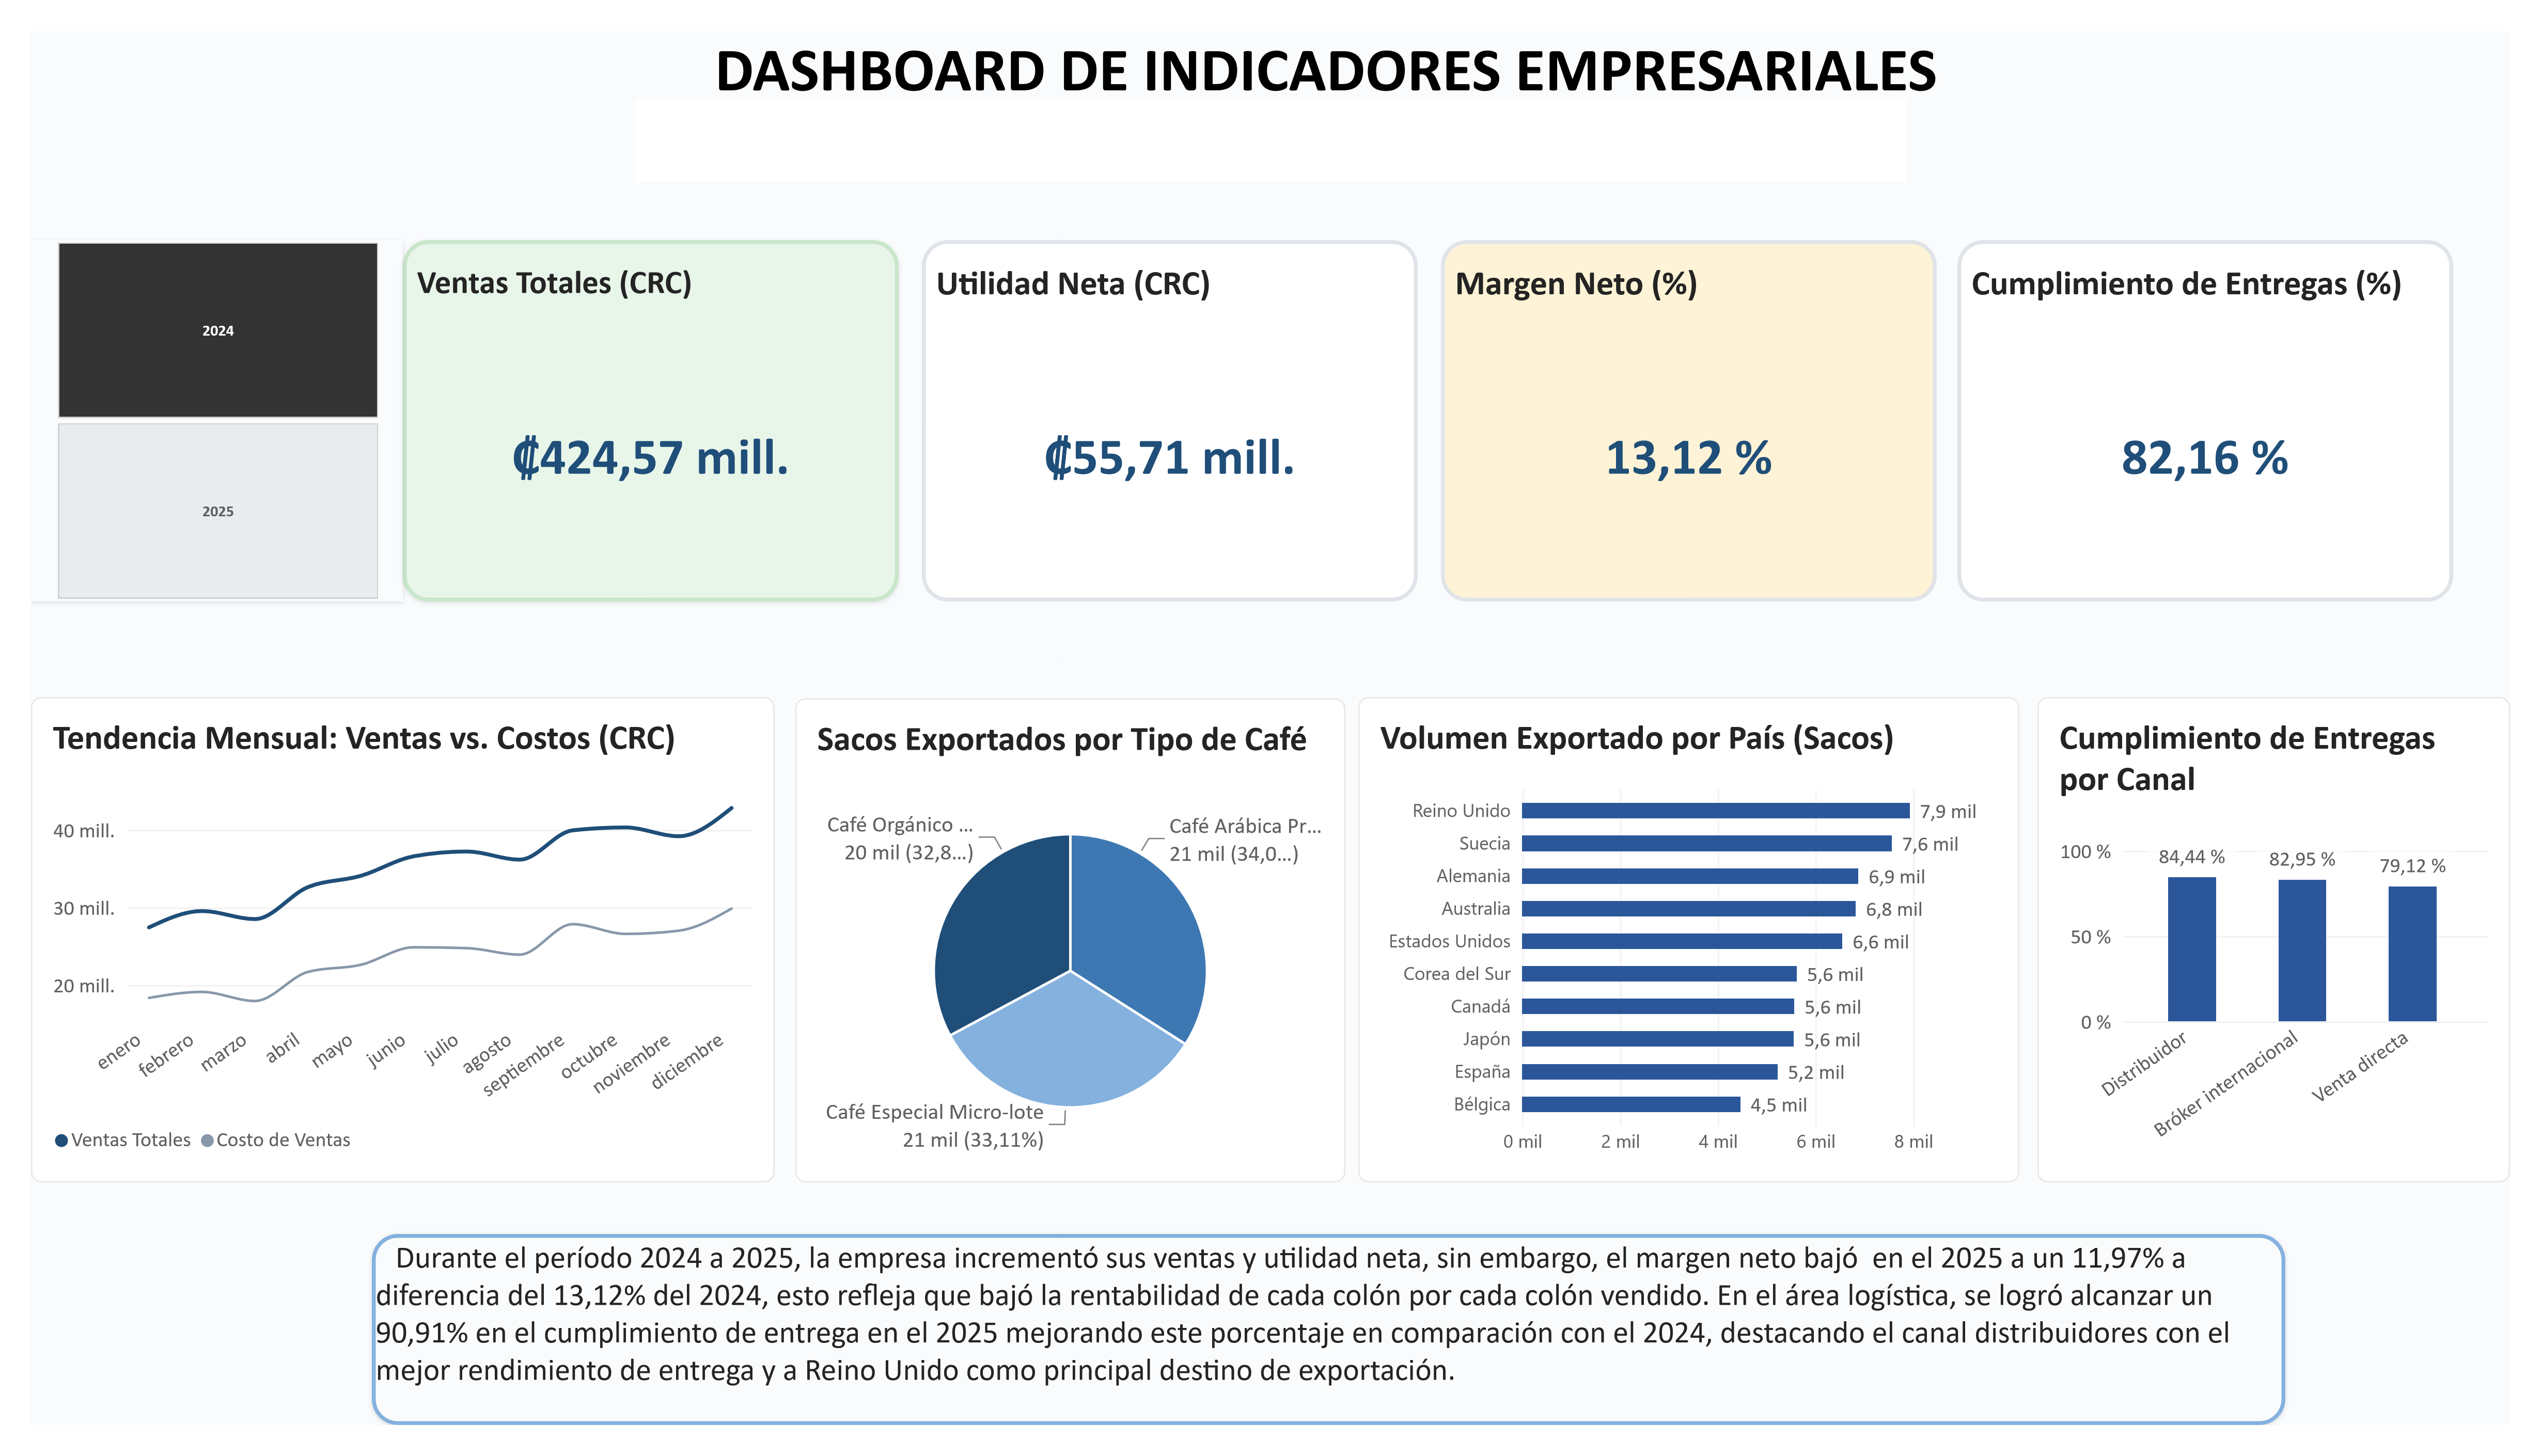

The dashboard page shown, as its layout file describes it:
{"tool":"powerbi","page":{"name":"Página 1","canvas":[1920,1080],"ordinal":0},"visuals":[{"type":"kpi","title":"Ventas Totales (CRC)","fields":{"Indicator":["Finanzas_Mensual.Ventas Totales (CRC)"],"TrendLine":["Calendario.Fecha.Variación.Jerarquía de fechas.Año"]},"box":[288,162,384,280],"z":0},{"type":"kpi","title":"Utilidad Neta (CRC)","fields":{"Indicator":["Finanzas_Mensual.Utilidad Neta (CRC)"],"TrendLine":["Calendario.Fecha.Variación.Jerarquía de fechas.Año"]},"box":[690,162,384,280],"z":1000},{"type":"kpi","title":"Cumplimiento de Entregas (%)","fields":{"Indicator":["Pedidos_Exportacion.Cumplimiento de Entregas (%)"],"TrendLine":["Calendario.Fecha.Variación.Jerarquía de fechas.Año"]},"box":[1492,162,384,280],"z":2000},{"type":"slicer","fields":{"Values":["Calendario.Fecha.Variación.Jerarquía de fechas.Año"]},"box":[0,162,288.3,280],"z":3000},{"type":"textbox","box":[364,0,1278,134],"z":4000},{"type":"kpi","title":"Margen Neto (%)","fields":{"Indicator":["Finanzas_Mensual.Margen Neto (%)"],"TrendLine":["Calendario.Fecha.Variación.Jerarquía de fechas.Año"]},"box":[1092,162,384,280],"z":6000},{"type":"lineChart","title":"Tendencia Mensual: Ventas vs. Costos (CRC)","fields":{"Category":["Calendario.Fecha.Variación.Jerarquía de fechas.Mes"],"Y":["Sum(Finanzas_Mensual.Ventas_Totales_CRC)","Sum(Finanzas_Mensual.Costo_Ventas_CRC)"]},"box":[0,516,576,376],"z":7000},{"type":"lineClusteredColumnComboChart","title":"Cumplimiento de Entregas por Canal","fields":{"Category":["Pedidos_Exportacion.Canal_Venta"],"Y":["Pedidos_Exportacion.Cumplimiento de Entregas (%)"]},"box":[1554,516,366,376],"z":8000},{"type":"clusteredBarChart","title":"Volumen Exportado por País (Sacos)","fields":{"Category":["Pedidos_Exportacion.Pais_Destino"],"Y":["Sum(Pedidos_Exportacion.Unidades_Sacos)"]},"box":[1028,516,512,376],"z":9000},{"type":"pieChart","title":"Sacos Exportados por Tipo de Café","fields":{"Category":["Pedidos_Exportacion.Producto"],"Y":["Sum(Pedidos_Exportacion.Unidades_Sacos)"]},"box":[591.7,516.7,426.7,375],"z":10000},{"type":"textbox","box":[264,932,1482,148],"z":11000}]}

Visuals, with their boxes in screenshot pixels (x1, y1, x2, y2), scaled from the page's 1920x1080 canvas onto the 2541x1456 screenshot:
"Ventas Totales (CRC)" kpi: 381, 218, 889, 596
"Utilidad Neta (CRC)" kpi: 913, 218, 1421, 596
"Cumplimiento de Entregas (%)" kpi: 1974, 218, 2483, 596
slicer - Calendario.Fecha.Variación.Jerarquía de fechas.Año: 0, 218, 382, 596
textbox: 482, 0, 2173, 181
"Margen Neto (%)" kpi: 1445, 218, 1953, 596
"Tendencia Mensual: Ventas vs. Costos (CRC)" lineChart: 0, 695, 762, 1202
"Cumplimiento de Entregas por Canal" lineClusteredColumnComboChart: 2057, 695, 2540, 1202
"Volumen Exportado por País (Sacos)" clusteredBarChart: 1360, 695, 2038, 1202
"Sacos Exportados por Tipo de Café" pieChart: 783, 697, 1348, 1202
textbox: 349, 1257, 2311, 1455
